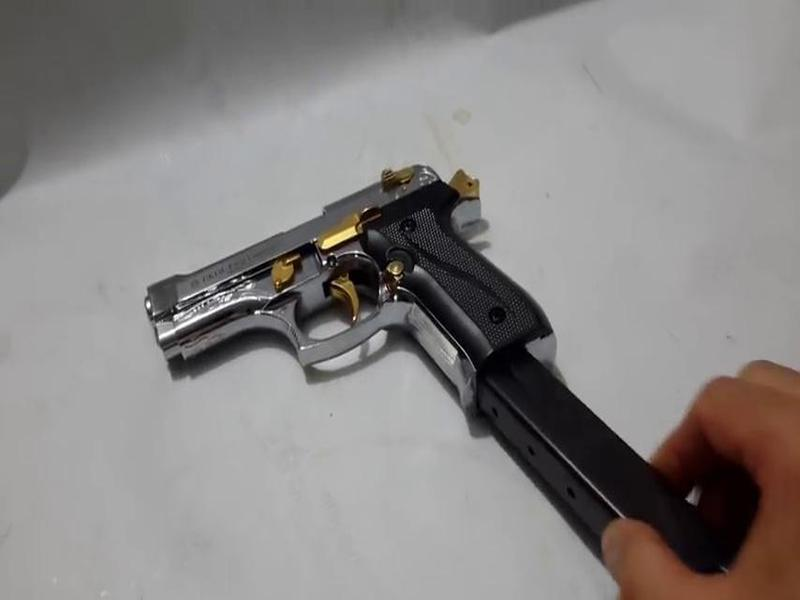Pistola: (135, 155, 562, 384)
